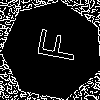F: (27, 25, 79, 64)
